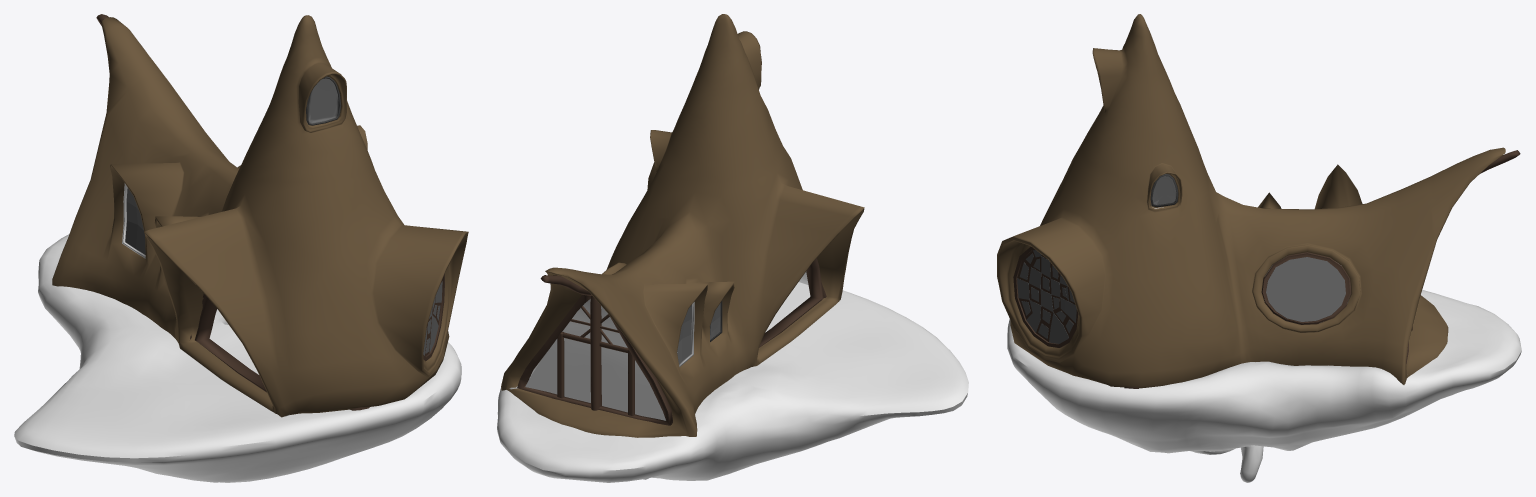
File: Maison.fbx
3 views of the same model, side by side, from view 1: azimuth 30°, elevation 25°; view 2: azimuth 150°, elevation 25°; view 3: azimuth 270°, elevation 25° (orthographic). The views are drawn at different scales.
Visible parts, largest first — view 1: Chaumiere, solpierre, Porte_d_entré, Fenetre_haut2, Fenetre_A, Fenetre_ronde; view 2: Chaumiere, solpierre, porte_fenetre, poutre, polySurface1_1, Porte_d_entré, Fenetre_A; view 3: Chaumiere, solpierre, Fenetreovalfond, Fenetre_ronde, Fenetrehaut1.
Boxes of the visible parts, x1=… form: Chaumiere: x1=52, y1=15, x2=468, y2=417; solpierre: x1=14, y1=234, x2=461, y2=482; Porte_d_entré: x1=195, y1=296, x2=266, y2=392; Fenetre_haut2: x1=306, y1=76, x2=341, y2=125; Fenetre_A: x1=122, y1=183, x2=145, y2=258; Fenetre_ronde: x1=423, y1=274, x2=444, y2=361; Chaumiere: x1=501, y1=14, x2=864, y2=437; solpierre: x1=497, y1=282, x2=968, y2=482; porte_fenetre: x1=525, y1=299, x2=665, y2=420; poutre: x1=540, y1=275, x2=826, y2=415; polySurface1_1: x1=517, y1=295, x2=672, y2=425; Porte_d_entré: x1=759, y1=258, x2=823, y2=347; Fenetre_A: x1=677, y1=302, x2=694, y2=366; Chaumiere: x1=997, y1=14, x2=1505, y2=388; solpierre: x1=1007, y1=290, x2=1521, y2=482; Fenetreovalfond: x1=1261, y1=252, x2=1351, y2=324; Fenetre_ronde: x1=1013, y1=246, x2=1078, y2=347; Fenetrehaut1: x1=1150, y1=174, x2=1178, y2=207.
Size of the model in its own units: 983 by 1115 by 1169.
